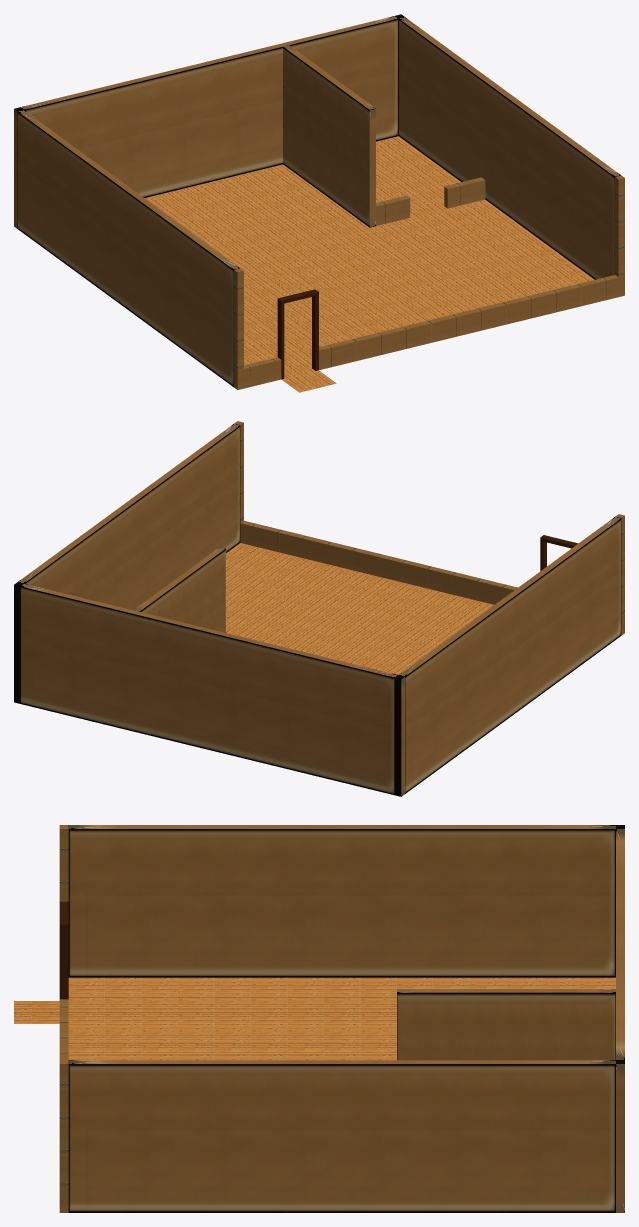
File: HomeFloor.fbx
3 views of the same model, one above another, from view 1: azimuth 30°, elevation 25°; view 2: azimuth 150°, elevation 25°; view 3: azimuth 270°, elevation 25° (orthographic). The views are drawn at different scales.
Visible parts, largest first — view 1: Floor, BackWall, LeftWall, RightWall, Muur, FrontWall2, FrontWall1, Cube_1, FrontWall2_2, FrontWall2_1, FloorExtended; view 2: BackWall, LeftWall, Floor, RightWall, FrontWall2, Muur; view 3: RightWall, LeftWall, Floor, Muur, BackWall, FrontWall2, FloorExtended, Cube_1, FrontWall1.
Part boxes in pixels (x1=…): Floor: x1=144, y1=136, x2=594, y2=374; BackWall: x1=14, y1=14, x2=404, y2=228; LeftWall: x1=17, y1=110, x2=239, y2=386; RightWall: x1=398, y1=17, x2=620, y2=279; Muur: x1=283, y1=45, x2=375, y2=227; FrontWall2: x1=319, y1=175, x2=624, y2=370; FrontWall1: x1=234, y1=268, x2=281, y2=389; Cube_1: x1=277, y1=289, x2=318, y2=379; FrontWall2_2: x1=444, y1=177, x2=485, y2=208; FrontWall2_1: x1=376, y1=195, x2=410, y2=225; FloorExtended: x1=281, y1=368, x2=336, y2=392; BackWall: x1=14, y1=582, x2=404, y2=796; LeftWall: x1=399, y1=516, x2=621, y2=793; Floor: x1=226, y1=543, x2=493, y2=674; RightWall: x1=18, y1=423, x2=240, y2=609; FrontWall2: x1=234, y1=421, x2=517, y2=604; Muur: x1=133, y1=547, x2=225, y2=632; RightWall: x1=68, y1=1060, x2=615, y2=1212; LeftWall: x1=68, y1=825, x2=615, y2=977; Floor: x1=68, y1=977, x2=615, y2=1060; Muur: x1=397, y1=989, x2=615, y2=1060; BackWall: x1=616, y1=825, x2=624, y2=1212; FrontWall2: x1=59, y1=999, x2=68, y2=1212; FloorExtended: x1=14, y1=1001, x2=59, y2=1023; Cube_1: x1=59, y1=901, x2=68, y2=999; FrontWall1: x1=59, y1=825, x2=68, y2=901.
Bounding box in the file's own units: 3100 × 900 × 3350.
Materials: 3 (2 with a texture image).
